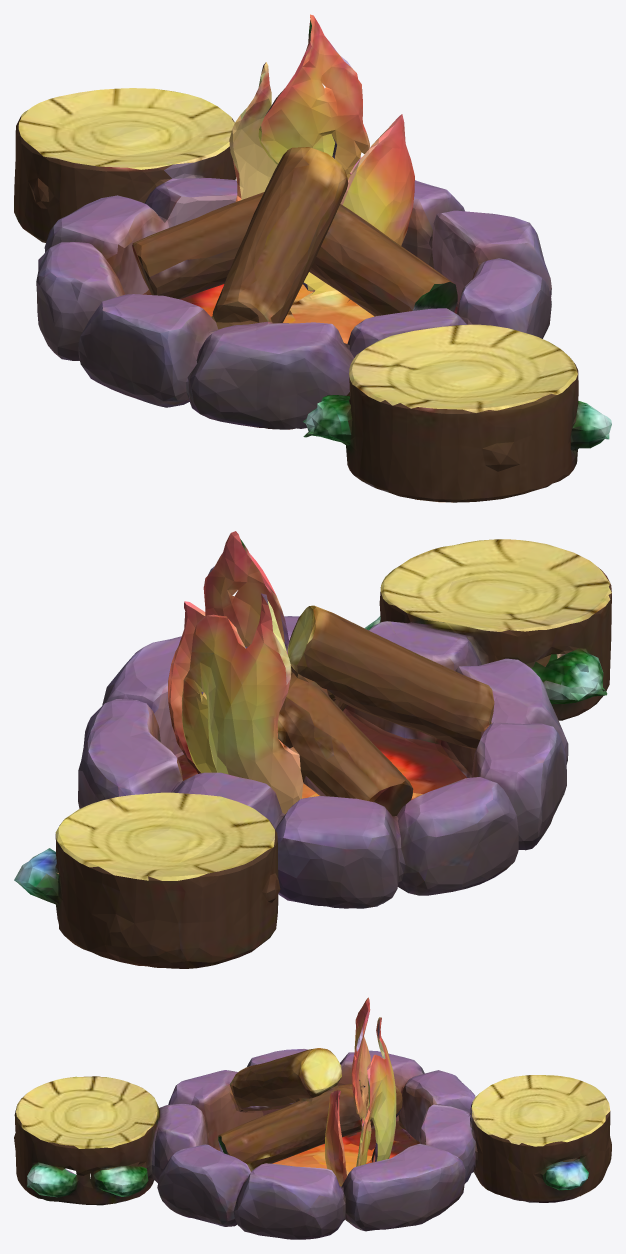
The model's file is campfire.glb.
3 views of the same model, one above another, from view 1: azimuth 30°, elevation 25°; view 2: azimuth 150°, elevation 25°; view 3: azimuth 270°, elevation 25° (orthographic). The views are drawn at different scales.
Visible parts, largest first — view 1: tmpdegl6hva.ply; view 2: tmpdegl6hva.ply; view 3: tmpdegl6hva.ply.
Part boxes in pixels (x1,y1,x2,y2): tmpdegl6hva.ply: (14, 14, 611, 502); tmpdegl6hva.ply: (14, 531, 611, 968); tmpdegl6hva.ply: (14, 997, 611, 1239).
Size of the model in its own units: 1.15 by 0.7159 by 1.99.
1 material, 1 textured.
